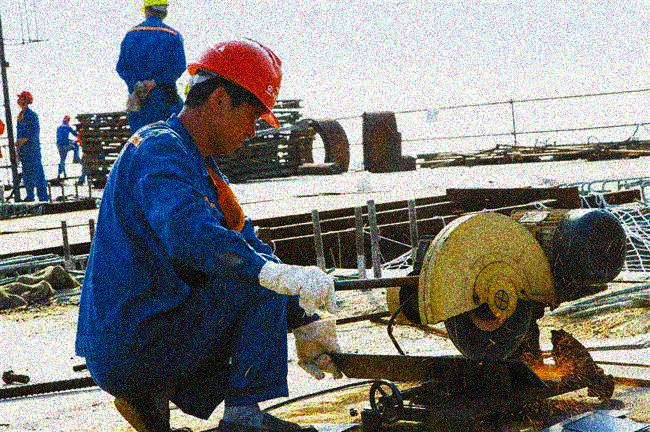helmet: (187, 36, 284, 158), (139, 1, 170, 20), (16, 90, 35, 106), (61, 114, 71, 122)
